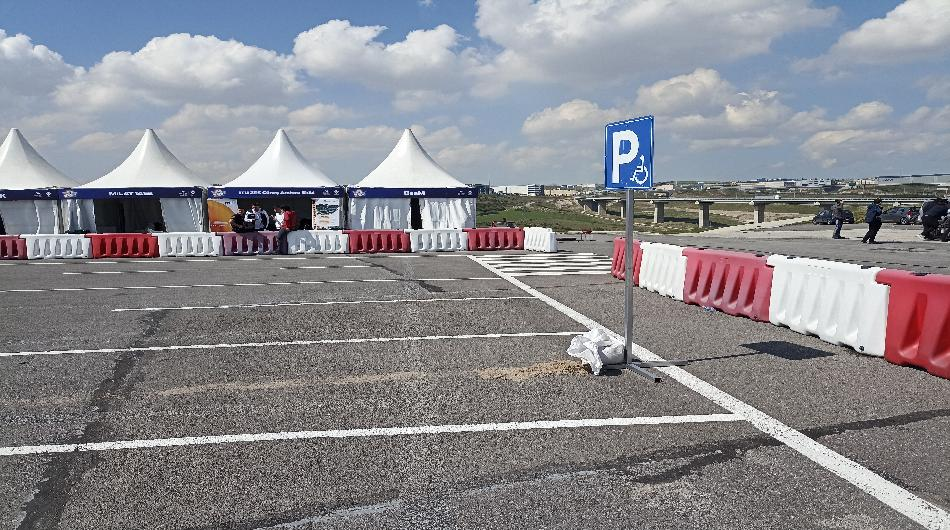engelli_park: (600, 111, 660, 195)
